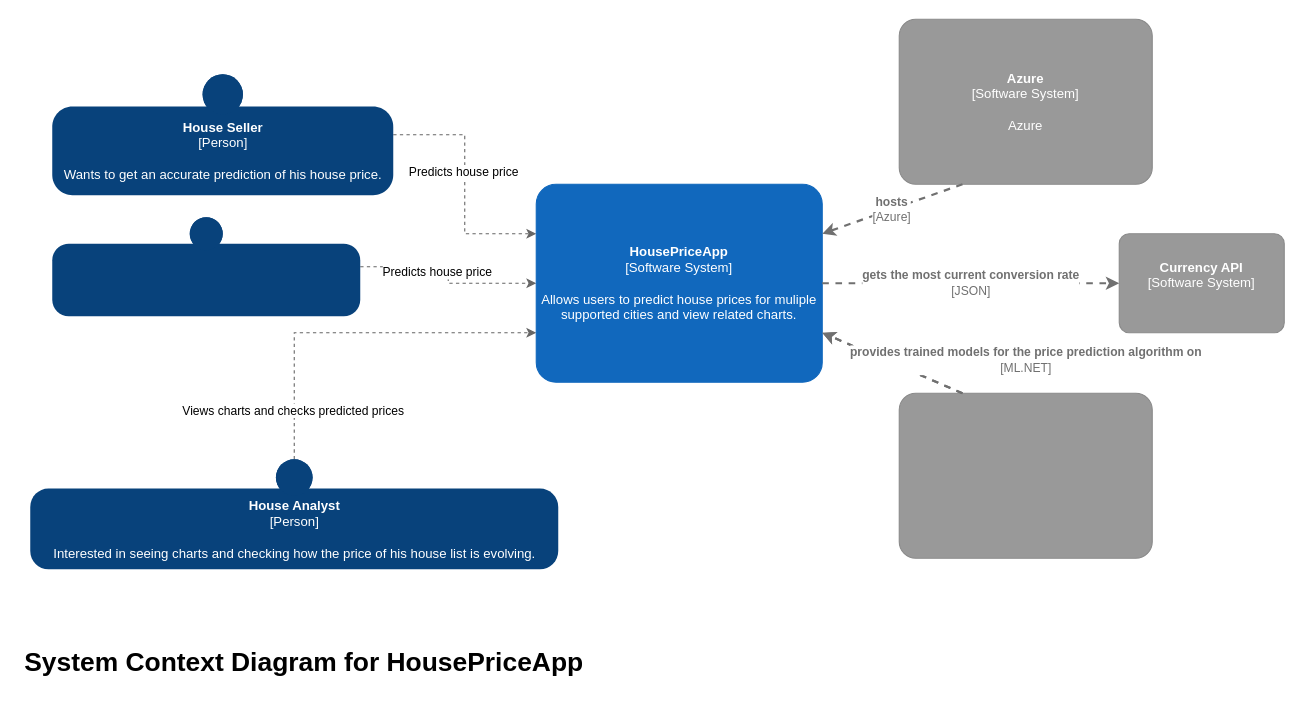
The diagram is 1304 pixels wide and 710 high, and some of its shapes have lost their labels. The shapes that lost their labels are listed below. From the top down, each one's box as (x1, y1, x2, y2) in pixels, then its label:
(52, 217, 360, 316): House Buyer [Person] Wants to see if a house falls in his price range.
(898, 392, 1152, 558): ML.NET [Software System] ML.NET
